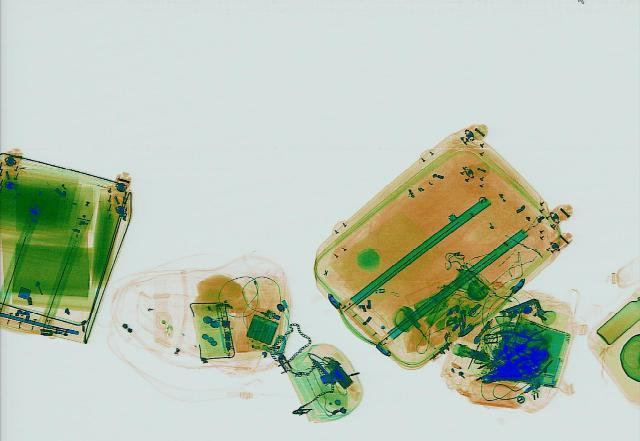Pliers: (482, 319, 556, 359)
